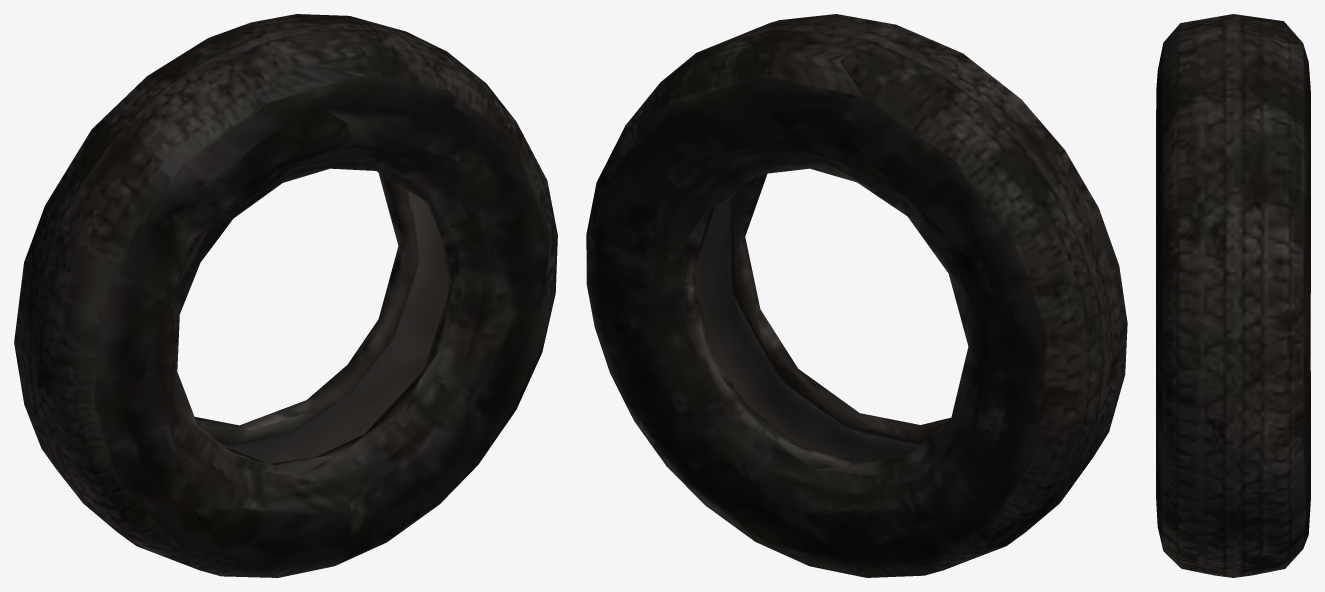
Rendered from old_tyre.glb.
3 renders of one model, left to right at view 1: azimuth 30°, elevation 25°; view 2: azimuth 150°, elevation 25°; view 3: azimuth 270°, elevation 25°, orthographic. The views are drawn at different scales.
Parts seen in each view (by area): view 1: old_tyre; view 2: old_tyre; view 3: old_tyre.
Part boxes in pixels (x1,y1,x2,y2): old_tyre: (14, 14, 557, 577); old_tyre: (586, 14, 1127, 577); old_tyre: (1156, 14, 1310, 577).
Size of the model in its own units: 0.6047 by 0.6033 by 0.1651.
Materials: 1 (1 with a texture image).
